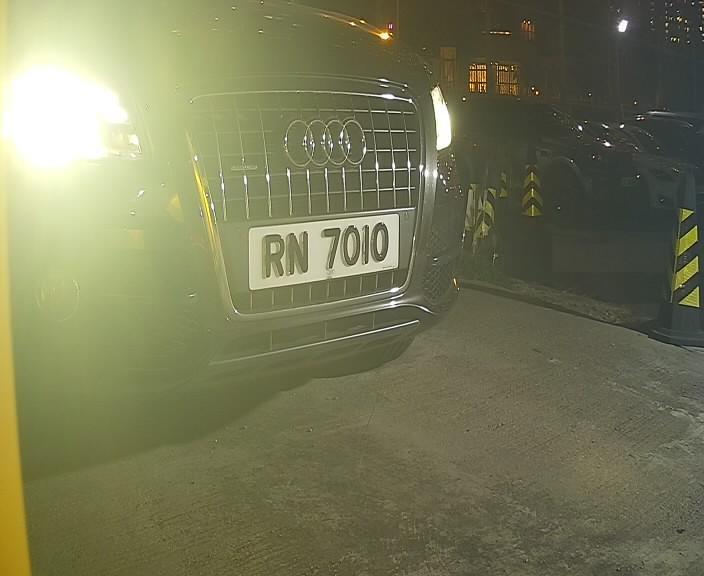privatecar: (3, 2, 496, 409)
